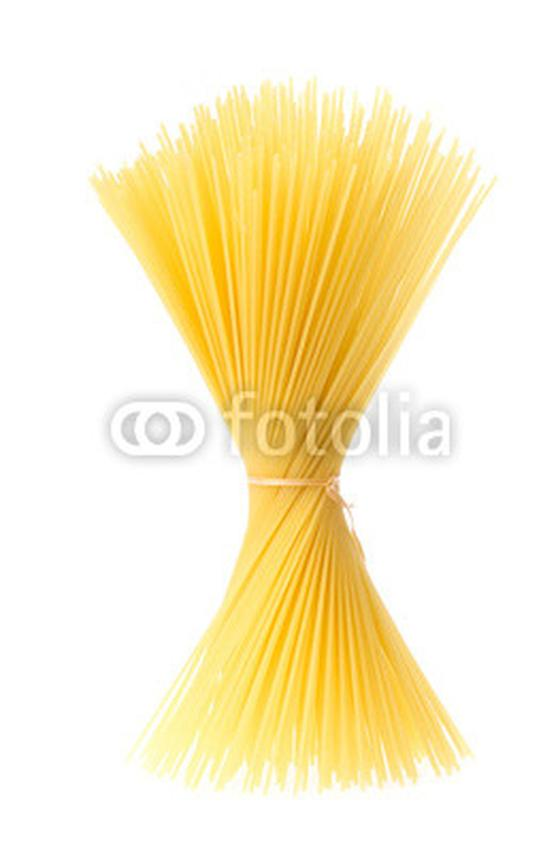spaghetti: (95, 89, 493, 774)
